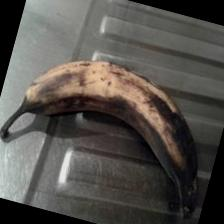Banana Rotten: (0, 49, 224, 216)
